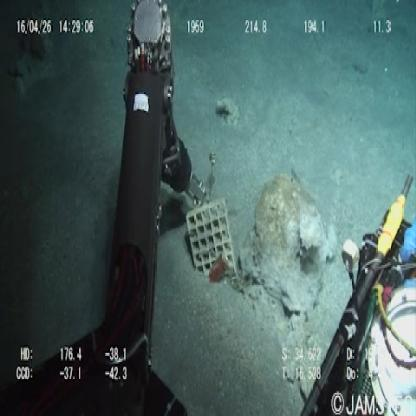Rov: (90, 1, 212, 412), (297, 166, 415, 416), (183, 192, 243, 292)
